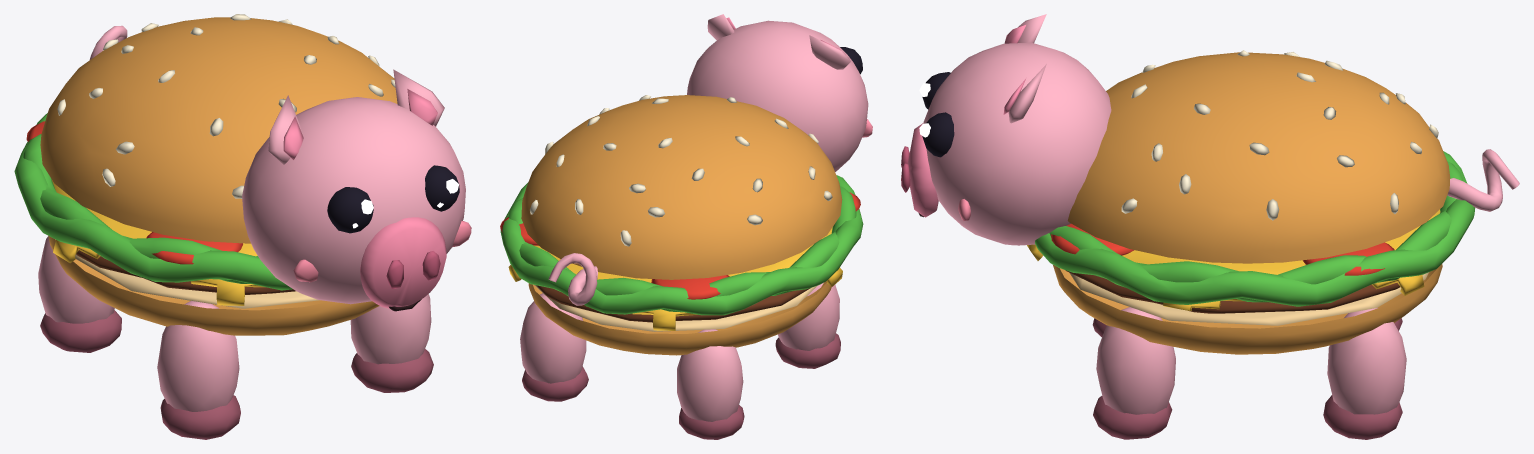
The model's file is pilot_gris_burger_lav.glb.
3 views of the same model, side by side, from view 1: azimuth 30°, elevation 25°; view 2: azimuth 150°, elevation 25°; view 3: azimuth 270°, elevation 25° (orthographic). The views are drawn at different scales.
Parts seen in each view (by area): view 1: kropp, hode, bein_vf, bein_hf, bein_vb, hale; view 2: kropp, hode, bein_vb, bein_hb, bein_vf, hale; view 3: kropp, hode, bein_hb, bein_hf, hale.
Part boxes in pixels (left/top/right/bottom): kropp: left=14, top=14, right=397, bottom=335; hode: left=242, top=69, right=471, bottom=311; bein_vf: left=157, top=301, right=240, bottom=439; bein_hf: left=350, top=294, right=433, bottom=392; bein_vb: left=38, top=236, right=121, bottom=352; hale: left=89, top=25, right=127, bottom=59; kropp: left=500, top=95, right=863, bottom=355; hode: left=687, top=14, right=872, bottom=171; bein_vb: left=677, top=329, right=744, bottom=439; bein_hb: left=520, top=293, right=588, bottom=401; bein_vf: left=775, top=282, right=840, bottom=368; hale: left=548, top=253, right=597, bottom=305; kropp: left=1027, top=50, right=1475, bottom=354; hode: left=901, top=14, right=1111, bottom=245; bein_hb: left=1323, top=307, right=1406, bottom=439; bein_hf: left=1093, top=307, right=1175, bottom=439; hale: left=1447, top=149, right=1519, bottom=211.
Size of the model in its own units: 1.06 by 0.9708 by 1.56.
